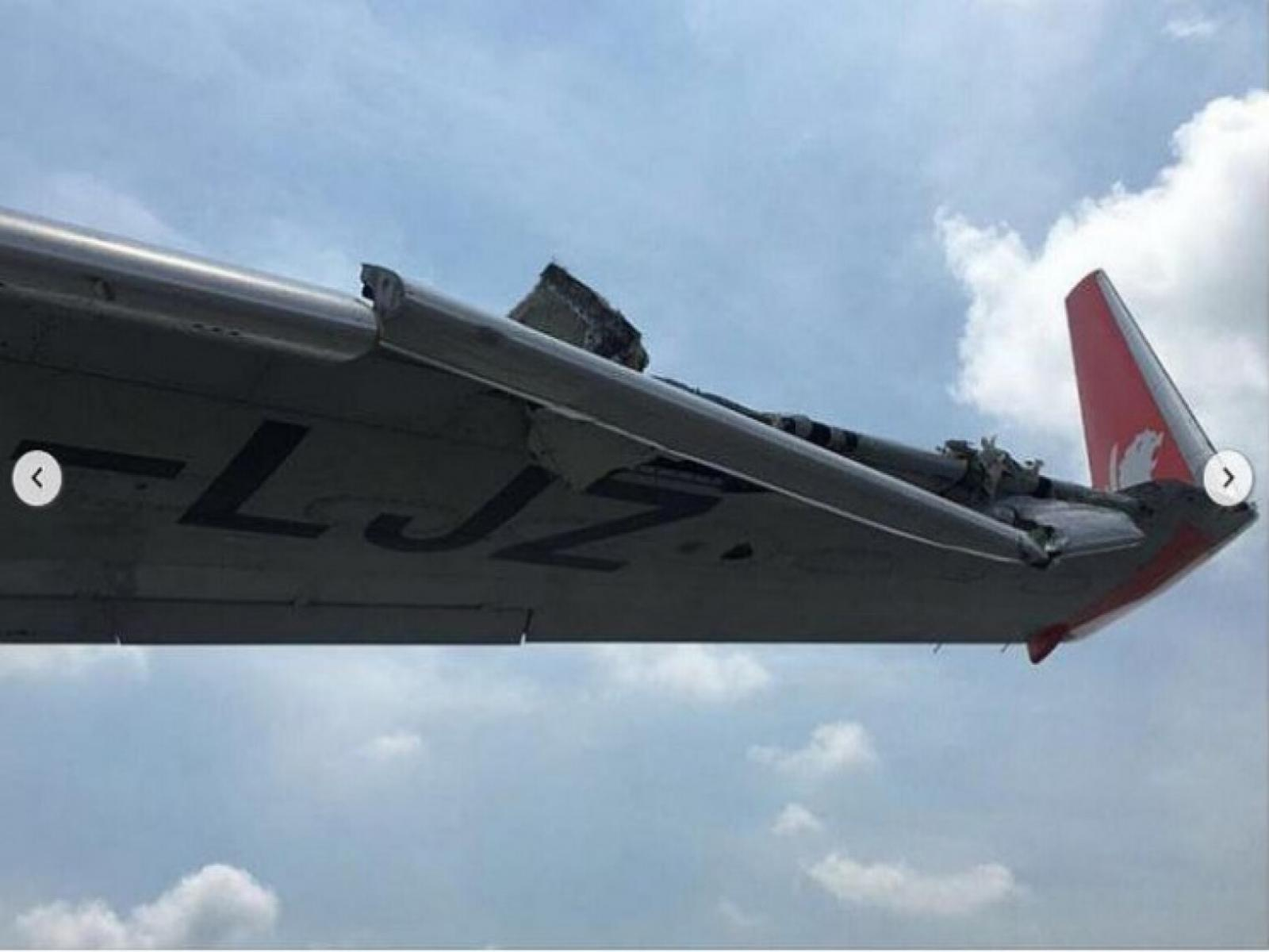Wing_damage: (337, 243, 1176, 595)
